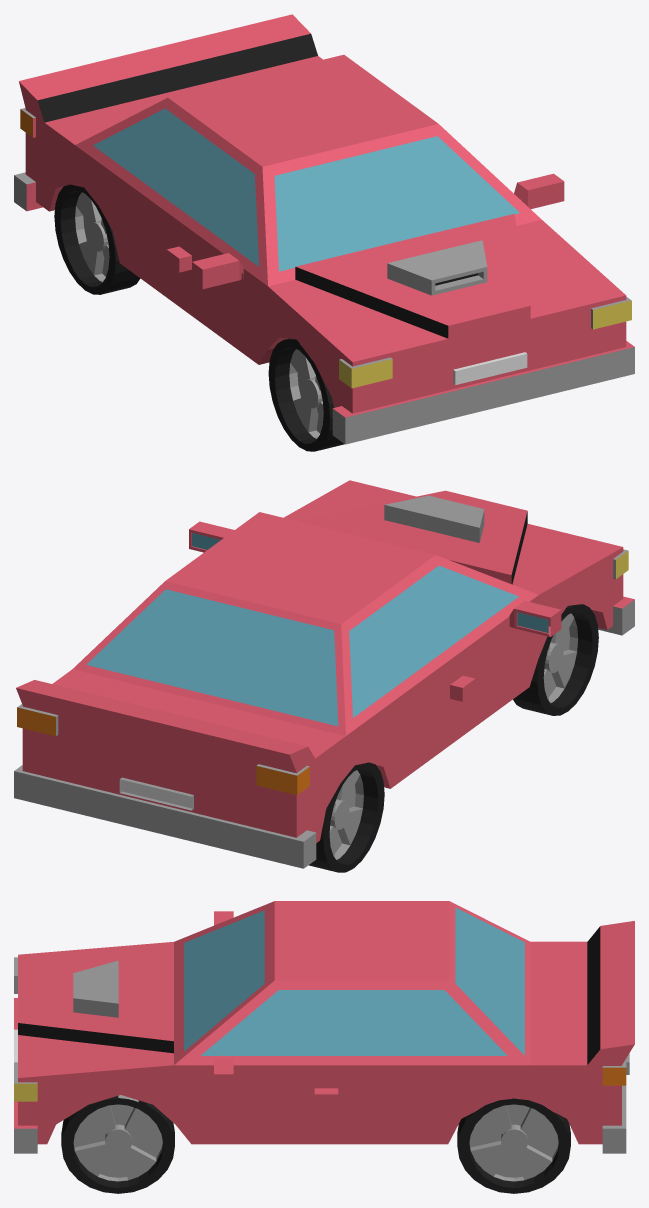
File: Car1.fbx
The picture shows the model from 3 angles, top to bottom: view 1: azimuth 30°, elevation 25°; view 2: azimuth 150°, elevation 25°; view 3: azimuth 270°, elevation 25°; orthographic projection. The views are drawn at different scales.
Parts seen in each view (by area): view 1: Car1; view 2: Car1; view 3: Car1.
Part boxes in pixels (x1,y1,x2,y2): Car1: [14, 14, 634, 451]; Car1: [14, 480, 634, 872]; Car1: [14, 901, 634, 1193].
Bounding box in the file's own units: 257 × 160 × 87.39.
